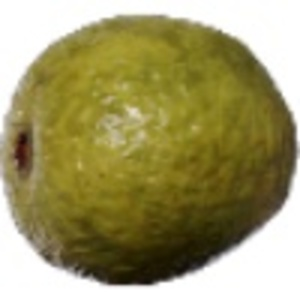goiaba: (5, 12, 297, 286)
